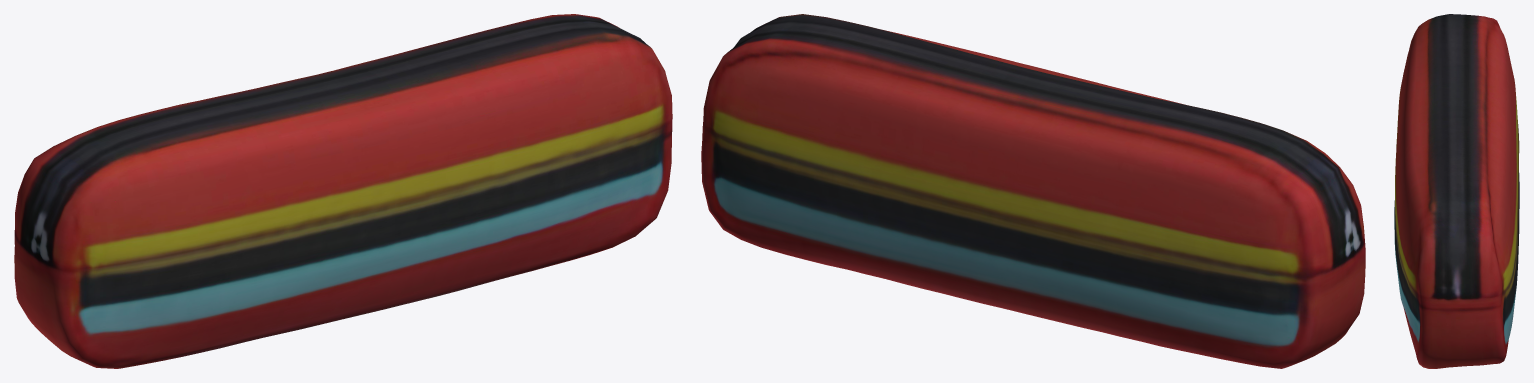
File: pencilcase.fbx
3 renders of one model, left to right at view 1: azimuth 30°, elevation 25°; view 2: azimuth 150°, elevation 25°; view 3: azimuth 270°, elevation 25°, orthographic. The views are drawn at different scales.
Visible parts, largest first — view 1: mesh; view 2: mesh; view 3: mesh.
Boxes of the visible parts, box(x1,y1,x2,y2) form: mesh: box(14, 14, 672, 368); mesh: box(701, 14, 1365, 368); mesh: box(1394, 14, 1519, 368).
Bounding box in the file's own units: 99.94 × 32.89 × 22.48.
